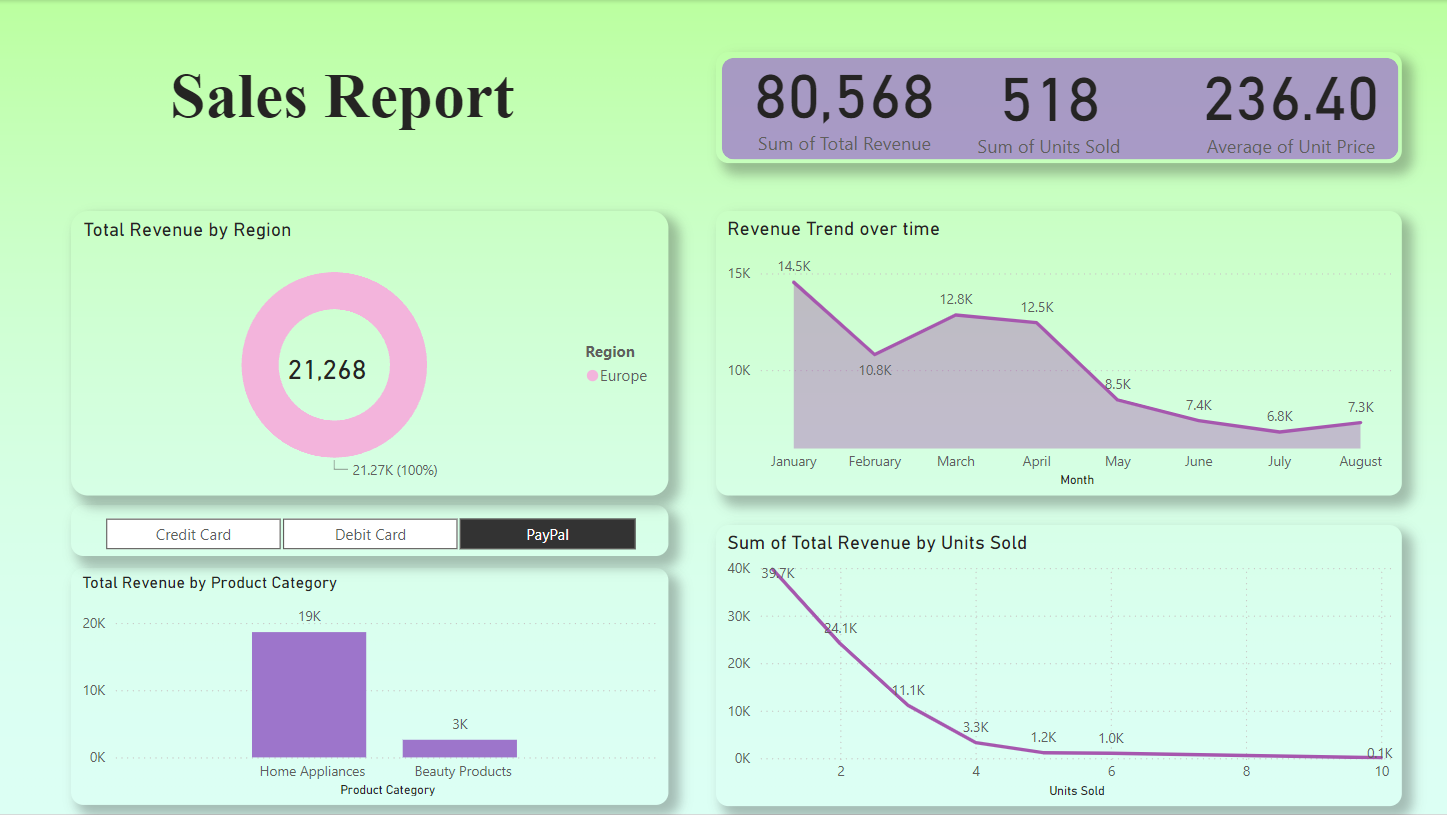

The dashboard page shown, as its layout file describes it:
{"tool":"powerbi","page":{"name":"Page 1","canvas":[1280,720],"ordinal":0},"visuals":[{"type":"donutChart","title":"Total Revenue by Region","fields":{"Y":["Sum(Online Sales Data.Total Revenue)"],"Category":["Online Sales Data.Region"]},"box":[63.1,200.4,527.1,250.2],"z":0},{"type":"shape","box":[632.5,45.9,605.2,97.9],"z":1000},{"type":"slicer","fields":{"Values":["Online Sales Data.Payment Method"]},"box":[63.1,456.6,527.1,44.9],"z":2000},{"type":"card","fields":{"Values":["Sum(Online Sales Data.Total Revenue)"]},"box":[235.5,294.6,93.5,87.3],"z":3000},{"type":"textbox","box":[52.2,47.4,501.6,97.2],"z":4000},{"type":"card","fields":{"Values":["Sum(Online Sales Data.Total Revenue)"]},"box":[632.5,34.4,195.8,107.6],"z":5000},{"type":"lineChart","fields":{"Category":["Online Sales Data.Units Sold"],"Y":["Sum(Online Sales Data.Total Revenue)"]},"box":[632.7,462.7,604.8,247.7],"z":6000},{"type":"card","fields":{"Values":["Sum(Online Sales Data.Units Sold)"]},"box":[828.3,37.1,195.8,107.6],"z":7000},{"type":"card","fields":{"Values":["Avg(Online Sales Data.Unit Price)"]},"box":[1041.8,38.8,195.8,103.2],"z":8000},{"type":"areaChart","title":"Revenue Trend over time","fields":{"Category":["Online Sales Data.Date.Variation.Date Hierarchy.Month"],"Y":["Sum(Online Sales Data.Total Revenue)"]},"box":[632.7,200.4,604.8,250.2],"z":9000},{"type":"clusteredColumnChart","title":"Total Revenue by Product Category","fields":{"Category":["Online Sales Data.Product Category"],"Y":["Sum(Online Sales Data.Total Revenue)"]},"box":[63.1,511.3,527.1,199.2],"z":10000}]}

Visuals, with their boxes in screenshot pixels (x1, y1, x2, y2), scaled from the page's 1280x720 canvas onto the 1447x815 screenshot:
"Total Revenue by Region" donutChart: locate(71, 227, 667, 510)
shape: locate(715, 52, 1399, 163)
slicer - Online Sales Data.Payment Method: locate(71, 517, 667, 568)
card - Sum(Online Sales Data.Total Revenue): locate(266, 333, 372, 432)
textbox: locate(59, 54, 626, 164)
card - Sum(Online Sales Data.Total Revenue): locate(715, 39, 936, 161)
lineChart - Online Sales Data.Units Sold x Sum(Online Sales Data.Total Revenue): locate(715, 524, 1399, 804)
card - Sum(Online Sales Data.Units Sold): locate(936, 42, 1158, 164)
card - Avg(Online Sales Data.Unit Price): locate(1178, 44, 1399, 161)
"Revenue Trend over time" areaChart: locate(715, 227, 1399, 510)
"Total Revenue by Product Category" clusteredColumnChart: locate(71, 579, 667, 804)
